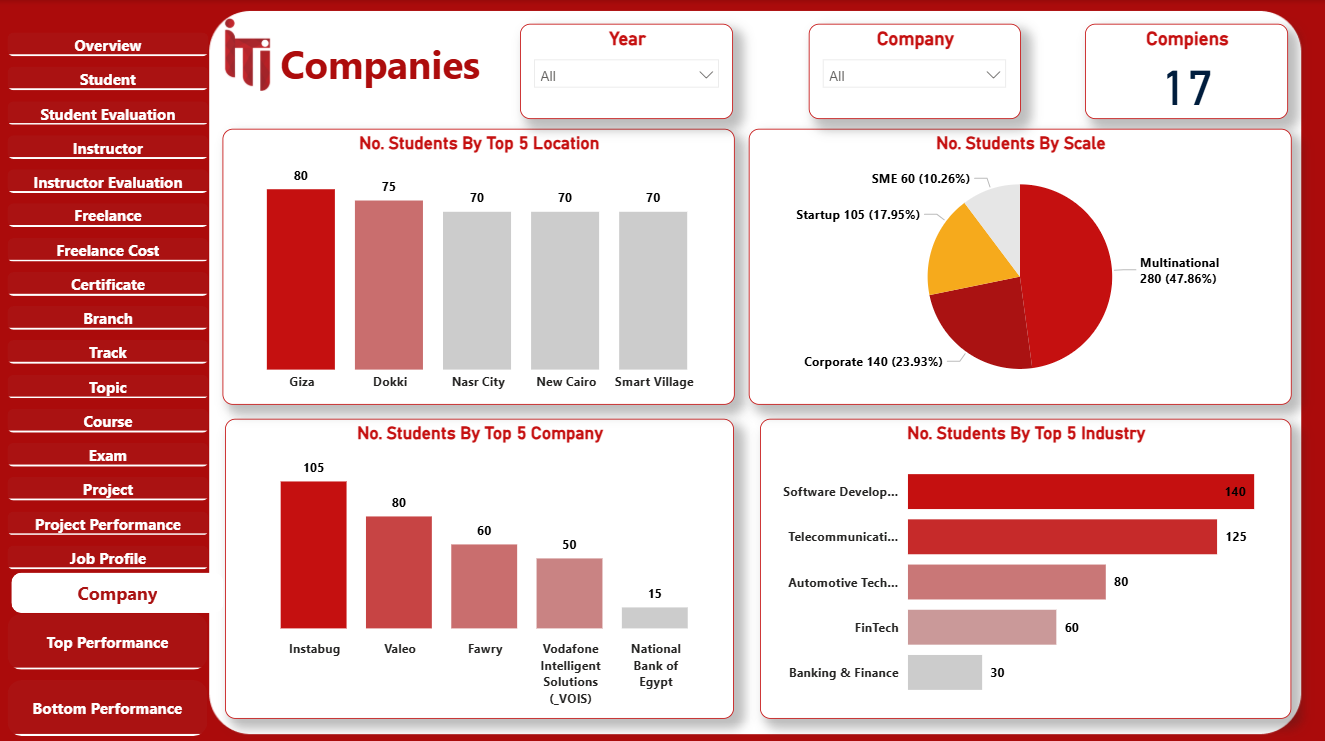

The page's visual inventory and layout, read from the dashboard file:
{"tool":"powerbi","page":{"name":" Company","canvas":[1280,720],"ordinal":16},"visuals":[{"type":"card","title":"Compiens","fields":{"Values":["CountNonNull(Dim_Company.Com_ID)"]},"box":[1047,23.3,196.2,91.9],"z":0},{"type":"clusteredColumnChart","title":"No. Students By Top 5 Company","fields":{"Category":["Dim_Company.Com_name"],"Y":["Count(Fact_Student_Performance.st_id)"]},"box":[214.3,403.6,494.1,297.6],"z":1000},{"type":"clusteredBarChart","title":"No. Students By Top 5 Industry","fields":{"Category":["Dim_Company.Industry"],"Y":["Count(Fact_Student_Performance.st_id)"]},"box":[722.6,403.6,523.8,297.6],"z":2000},{"type":"clusteredColumnChart","title":"No. Students By Top 5 Location","fields":{"Category":["Dim_Company.Location"],"Y":["Count(Fact_Student_Performance.st_id)"]},"box":[214.3,123.8,494.1,266.7],"z":3000},{"type":"pieChart","title":"No. Students By Scale","fields":{"Category":["Dim_Company.Scale"],"Y":["Count(Fact_Student_Performance.st_id)"]},"box":[722.6,123.8,523.8,266.7],"z":4000},{"type":"textbox","box":[264.8,31.6,237.4,83.7],"z":5000},{"type":"pageNavigator","box":[6.9,31.6,194.9,531],"z":6000},{"type":"pageNavigator","box":[11,553,205.8,39.8],"z":7000},{"type":"pageNavigator","box":[6.9,592.8,193.5,118],"z":8000},{"type":"image","box":[196.2,4.1,86.4,89.2],"z":9000},{"type":"slicer","title":"Company","fields":{"Values":["Dim_Company.Com_name"]},"box":[780.4,23,204.6,92.1],"z":10000},{"type":"slicer","title":"Year","fields":{"Values":["Fact_Student_Performance.intake_end_date.Variation.Date Hierarchy.Year"]},"box":[502.2,23.3,205.8,91.9],"z":11000}]}

Visuals, with their boxes in screenshot pixels (x1, y1, x2, y2), scaled from the page's 1280x720 canvas onto the 1325x741 screenshot:
"Compiens" card: pyautogui.locateOnScreen(1084, 24, 1287, 119)
"No. Students By Top 5 Company" clusteredColumnChart: pyautogui.locateOnScreen(222, 415, 733, 722)
"No. Students By Top 5 Industry" clusteredBarChart: pyautogui.locateOnScreen(748, 415, 1290, 722)
"No. Students By Top 5 Location" clusteredColumnChart: pyautogui.locateOnScreen(222, 127, 733, 402)
"No. Students By Scale" pieChart: pyautogui.locateOnScreen(748, 127, 1290, 402)
textbox: pyautogui.locateOnScreen(274, 33, 520, 119)
pageNavigator: pyautogui.locateOnScreen(7, 33, 209, 579)
pageNavigator: pyautogui.locateOnScreen(11, 569, 224, 610)
pageNavigator: pyautogui.locateOnScreen(7, 610, 207, 732)
image: pyautogui.locateOnScreen(203, 4, 293, 96)
"Company" slicer: pyautogui.locateOnScreen(808, 24, 1020, 118)
"Year" slicer: pyautogui.locateOnScreen(520, 24, 733, 119)
